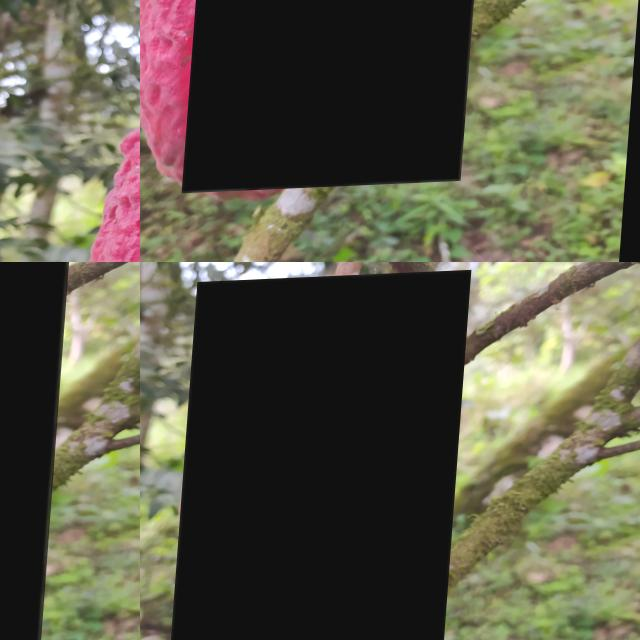Sana: (176, 273, 473, 640), (190, 0, 492, 195), (0, 262, 74, 640)
